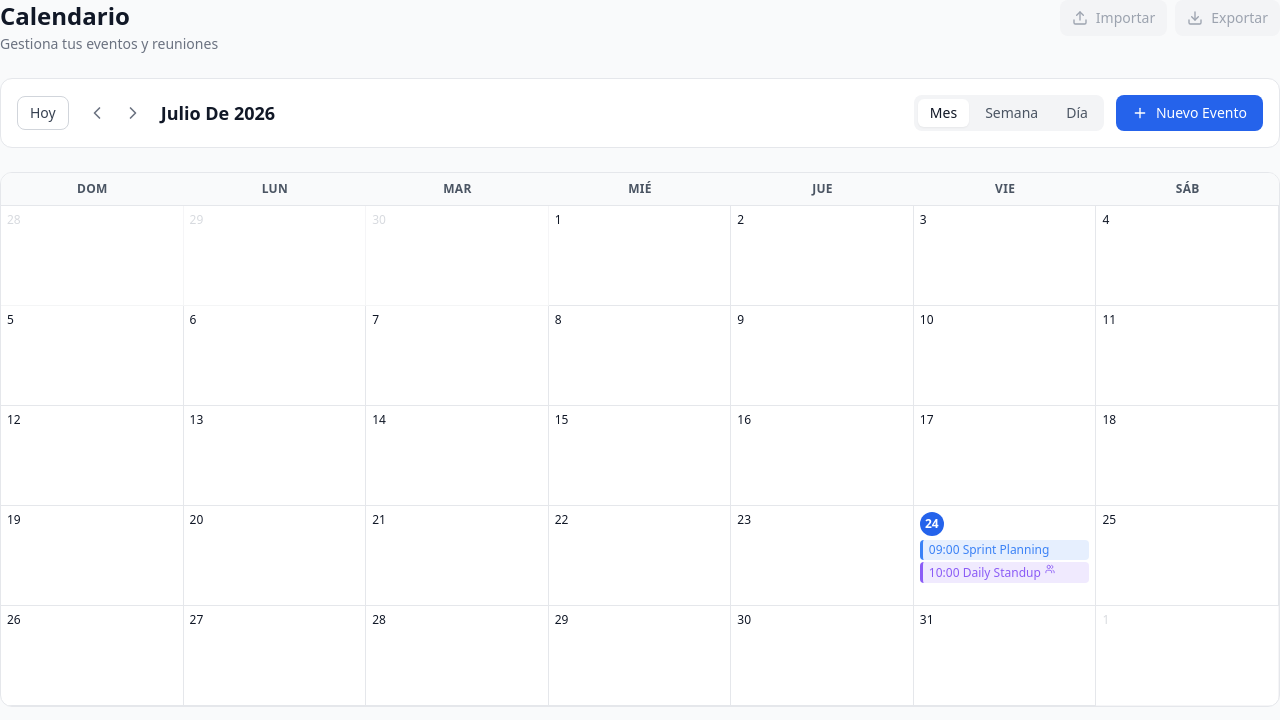
it: CalendarPage › cierra modal al hacer click en Cerrar modal
Click the button "Nuevo Evento" at (1189,113), box [1116,95,1263,131]
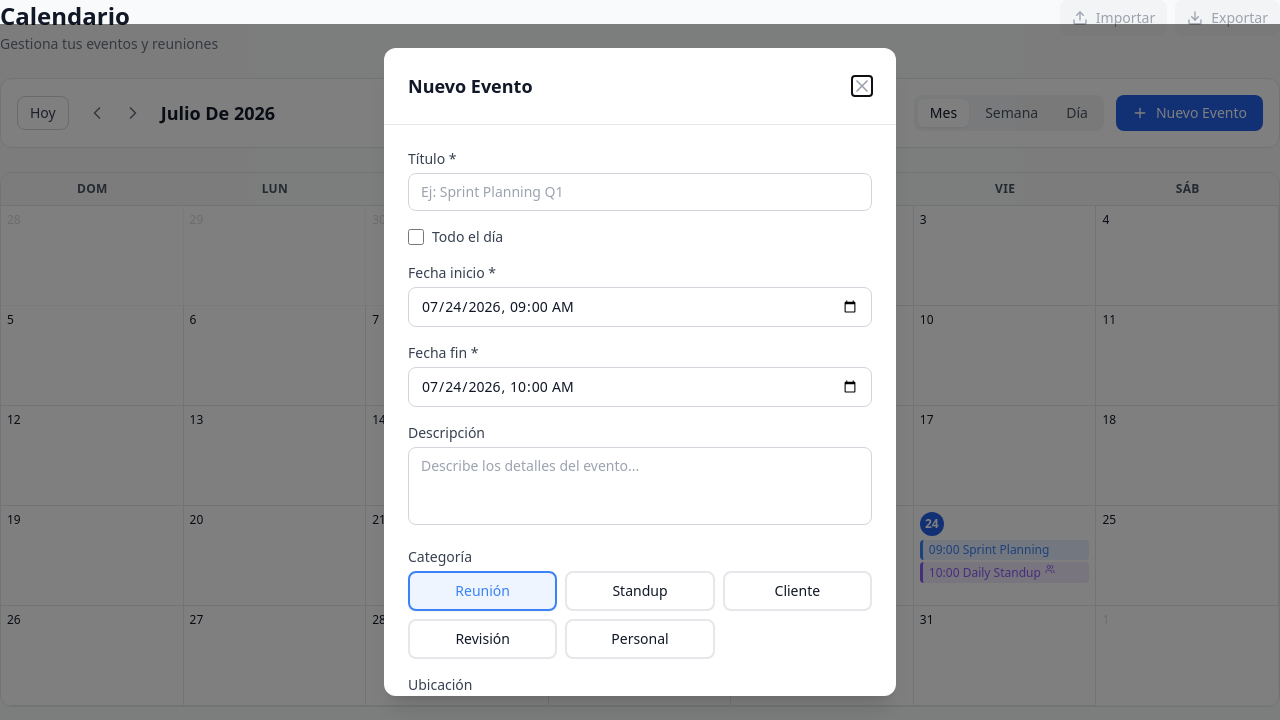
Click the button named "Cerrar modal" at (862,86), box [852,76,872,96]
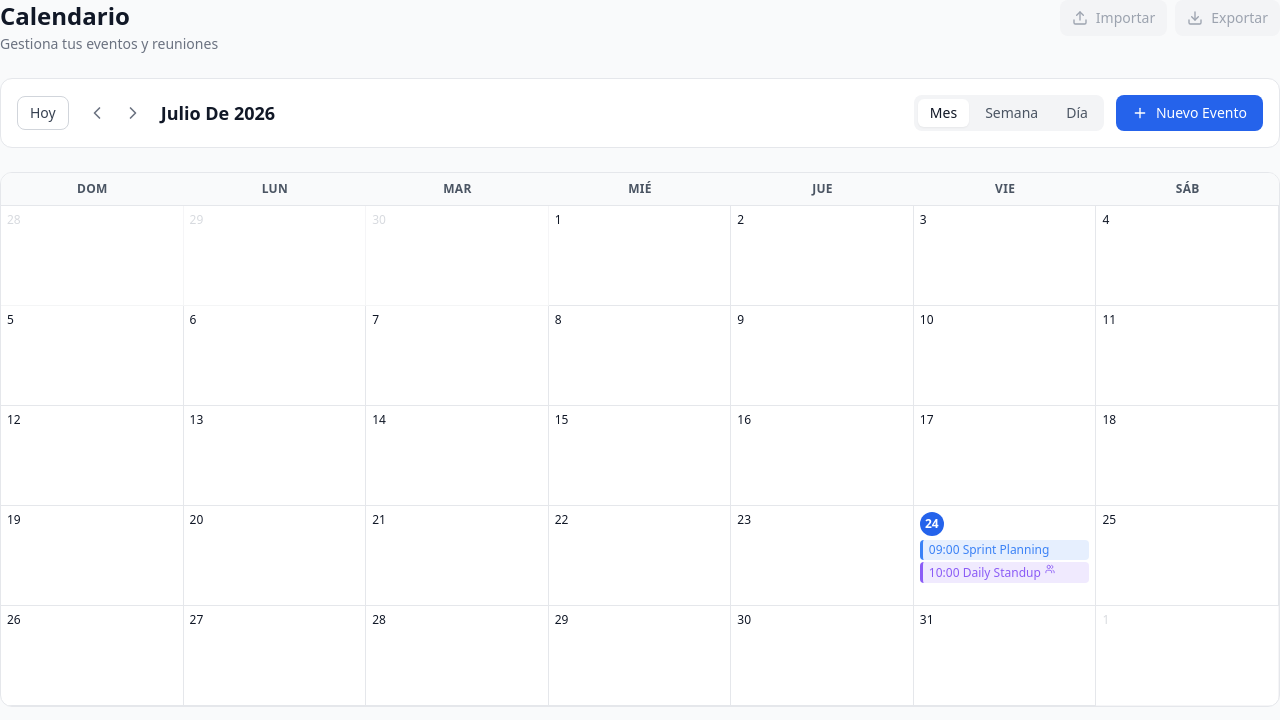
Expected: the dialog is gone
